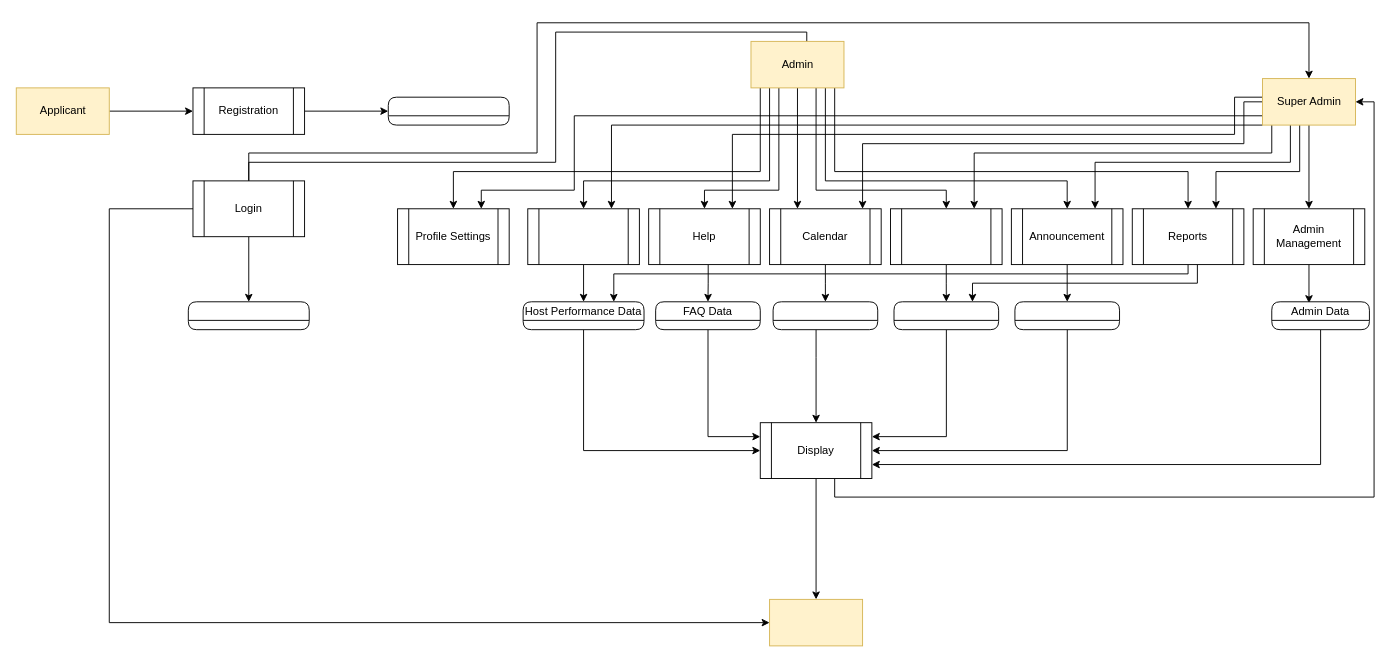
This 1398x662 diagram has some shape labels left out. The centre of each missing label's shape, as x and y in pixels:
"Announcement Data" goes at (x=1067, y=315).
"Audit Login" goes at (x=248, y=315).
"Calendar Data" goes at (x=825, y=315).
"Host" goes at (x=816, y=622).
"Host Data" goes at (x=946, y=315).
"Host Management" goes at (x=946, y=236).
"Pending Host Data" goes at (x=448, y=110).
"Performance" goes at (x=583, y=236).
